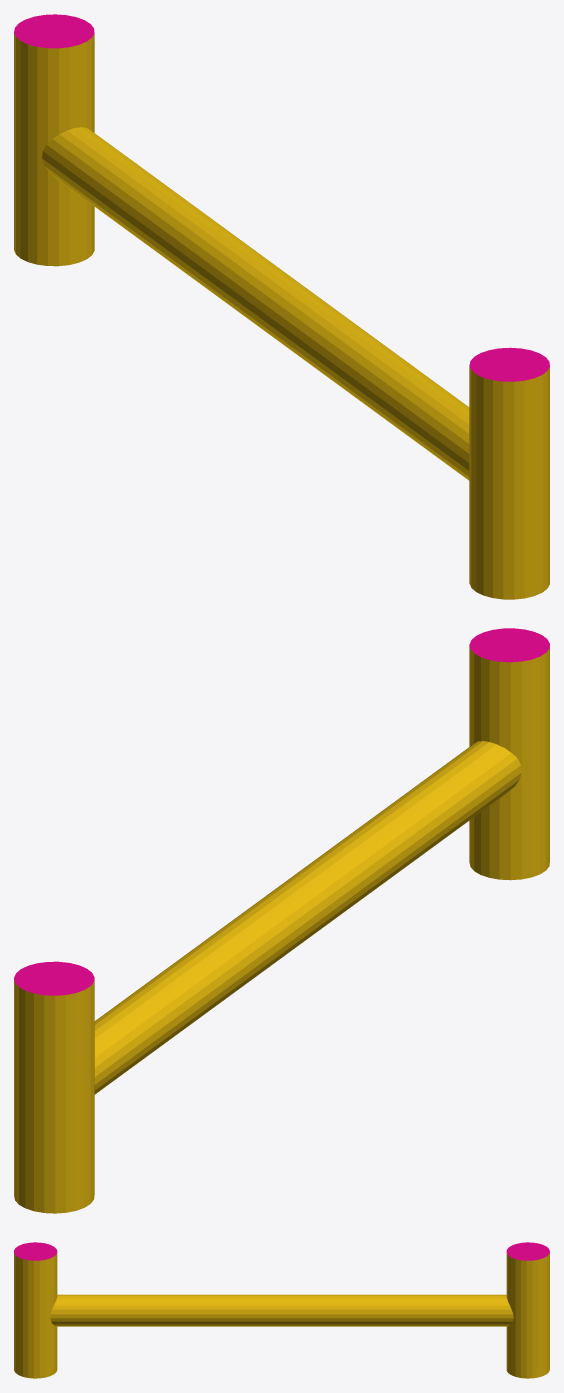
Rendered from obst3.fbx.
The picture shows the model from 3 angles, top to bottom: view 1: azimuth 30°, elevation 25°; view 2: azimuth 150°, elevation 25°; view 3: azimuth 270°, elevation 25°; orthographic projection. The views are drawn at different scales.
Parts seen in each view (by area): view 1: Cylinder.001, Cylinder.001_cell.002, Cylinder.001_cell.004, Cylinder.001_cell, Cylinder.001_cell.003, Cylinder.001_cell.001; view 2: Cylinder.001, Cylinder.001_cell.004, Cylinder.001_cell.002, Cylinder.001_cell, Cylinder.001_cell.003, Cylinder.001_cell.001; view 3: Cylinder.001, Cylinder.001_cell.002, Cylinder.001_cell.004, Cylinder.001_cell.003, Cylinder.001_cell, Cylinder.001_cell.001.
Boxes of the visible parts, left/top/right/bottom form: Cylinder.001: left=14, top=33, right=549, bottom=599; Cylinder.001_cell.002: left=42, top=127, right=294, bottom=323; Cylinder.001_cell.004: left=14, top=14, right=94, bottom=266; Cylinder.001_cell: left=469, top=366, right=549, bottom=531; Cylinder.001_cell.003: left=252, top=311, right=469, bottom=480; Cylinder.001_cell.001: left=470, top=527, right=538, bottom=598; Cylinder.001: left=15, top=628, right=549, bottom=1213; Cylinder.001_cell.004: left=14, top=961, right=94, bottom=1213; Cylinder.001_cell.002: left=94, top=896, right=303, bottom=1088; Cylinder.001_cell: left=469, top=645, right=549, bottom=828; Cylinder.001_cell.003: left=295, top=756, right=521, bottom=947; Cylinder.001_cell.001: left=469, top=817, right=546, bottom=880; Cylinder.001: left=14, top=1242, right=549, bottom=1378; Cylinder.001_cell.002: left=286, top=1294, right=513, bottom=1318; Cylinder.001_cell.004: left=506, top=1242, right=549, bottom=1378; Cylinder.001_cell.003: left=50, top=1318, right=286, bottom=1326; Cylinder.001_cell: left=28, top=1253, right=57, bottom=1349; Cylinder.001_cell.001: left=28, top=1343, right=57, bottom=1378.
Bounding box in the file's own units: 379 × 1131 × 4665.
